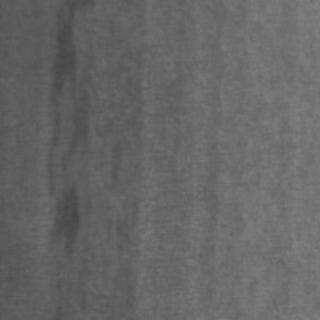inclusion: (34, 0, 90, 274)
